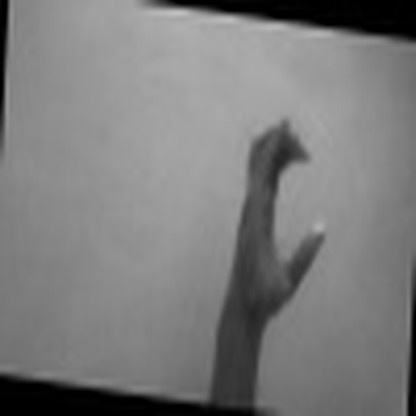c: (229, 114, 328, 314)
